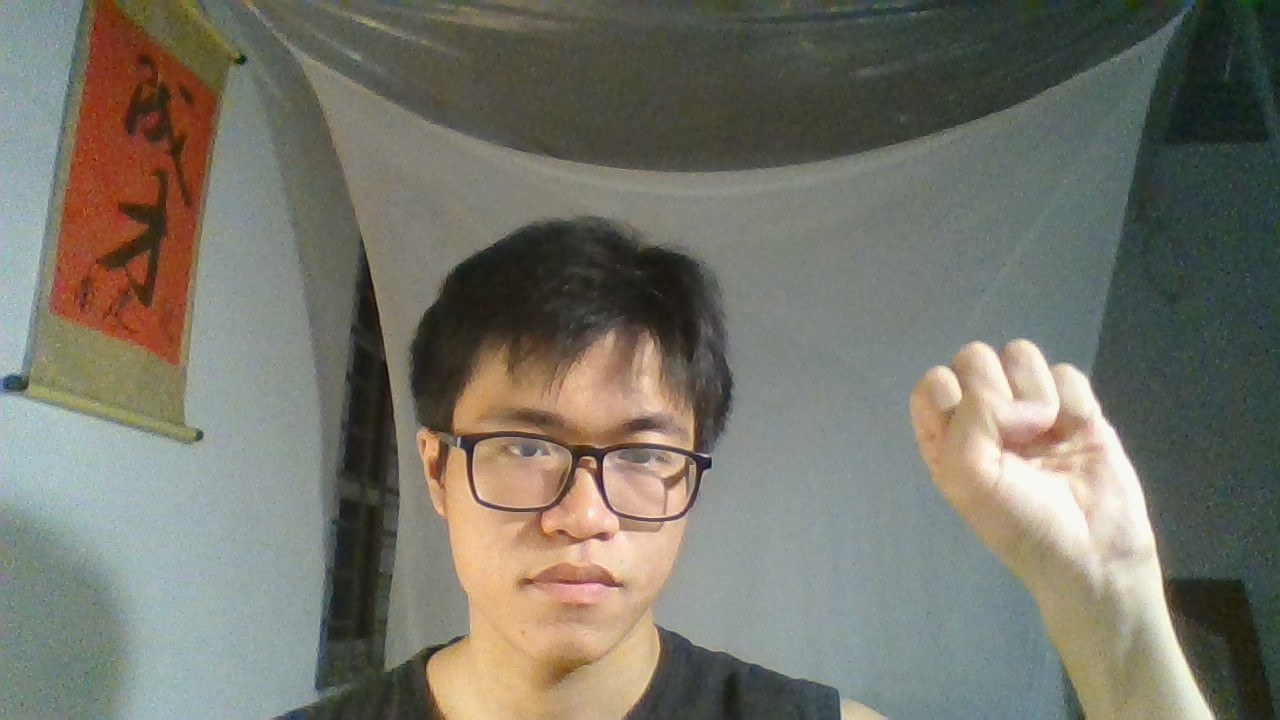s: (860, 306, 1213, 612)
